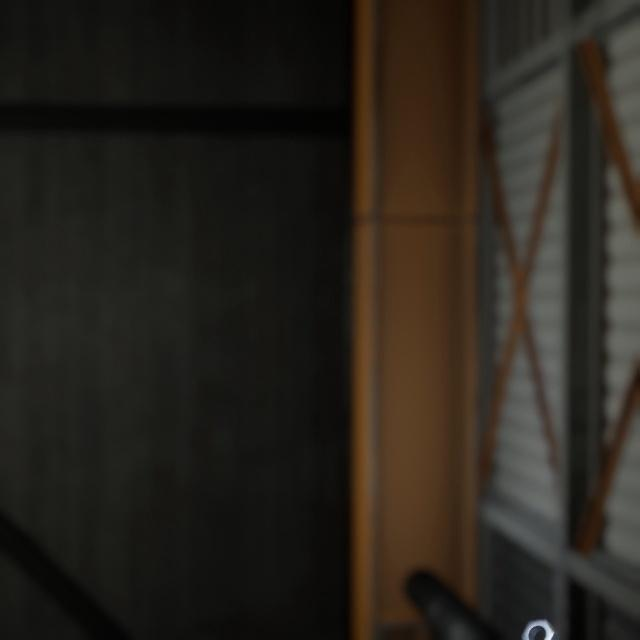nut: (516, 590, 563, 635)
